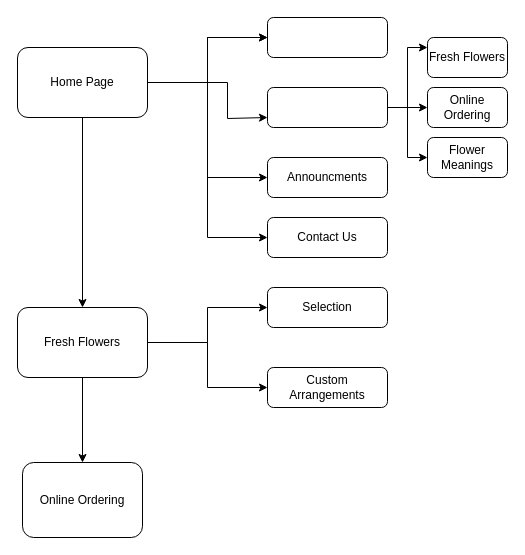
This 525x555 diagram has some shape labels left out. Here are the shapes that lost their labels. From the top down, the centre of each, then its label:
(327,37): About Us
(327,107): Services
